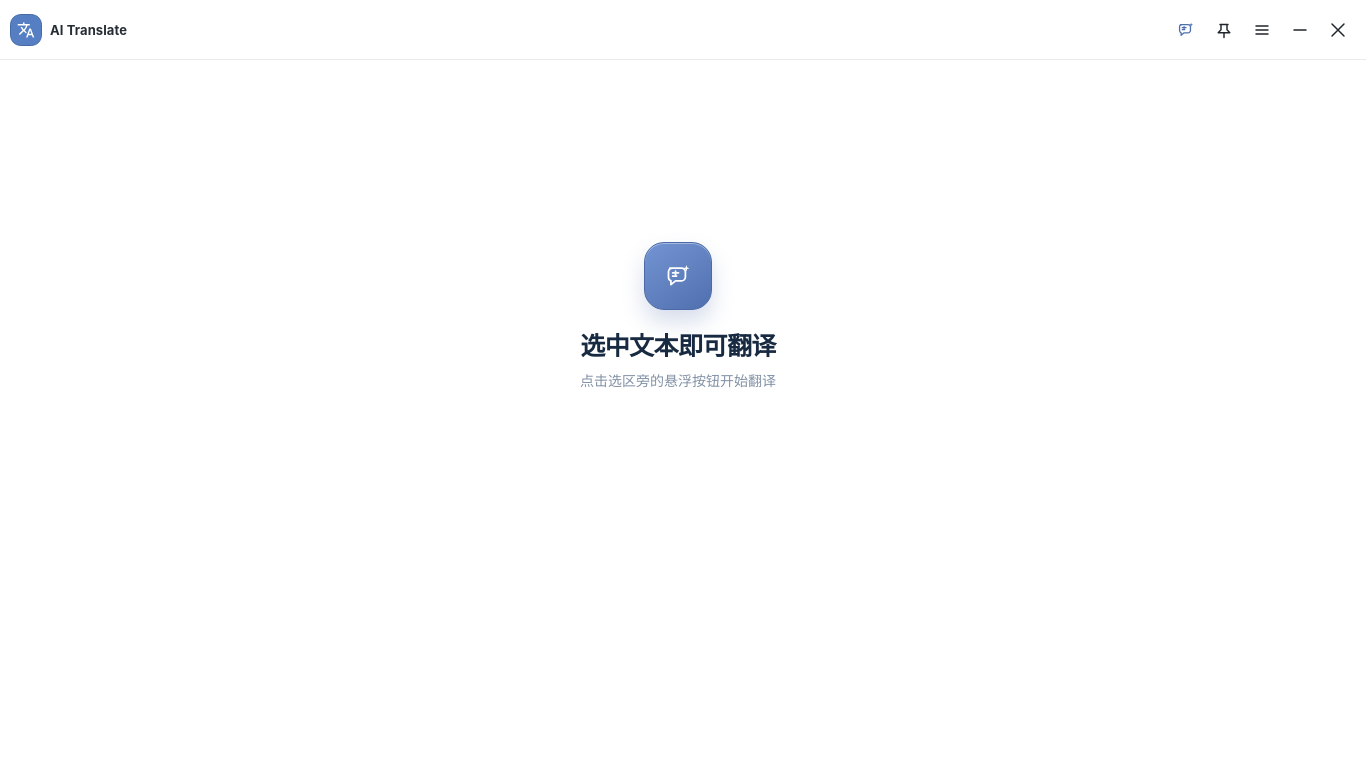
it: App › opens the floating translation state by default and keeps quick translation behind its entry
expect the heading "选中文本即可翻译" is shown: met, box [580,332,776,362]
expect the text "点击选区旁的悬浮按钮开始翻译" is shown: met, box [580,370,776,392]
Click the button named "快速翻译" at (1186, 30), box [1170,14,1202,46]
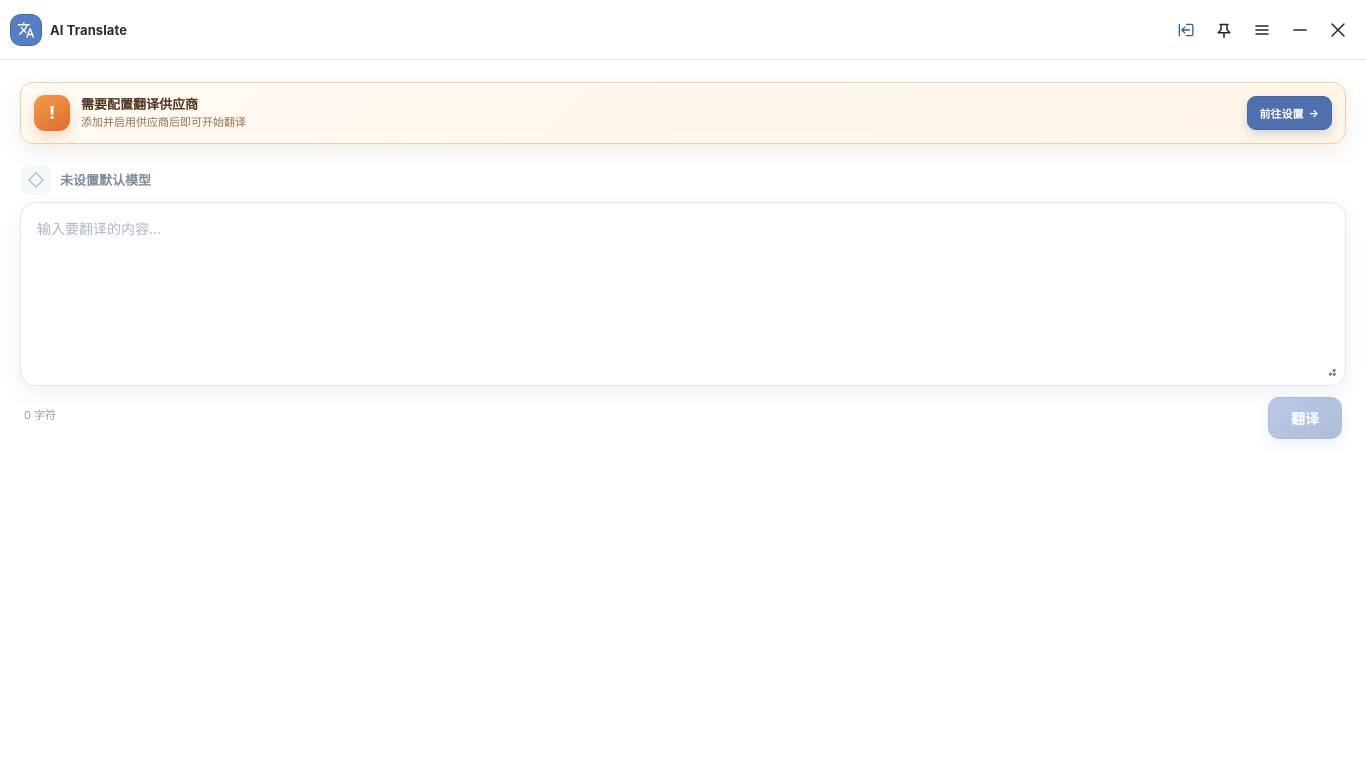
expect the text box named "输入文本" is shown: met, box [28,210,1338,378]
Click the button named "返回悬浮翻译" at (1186, 30), box [1170,14,1202,46]
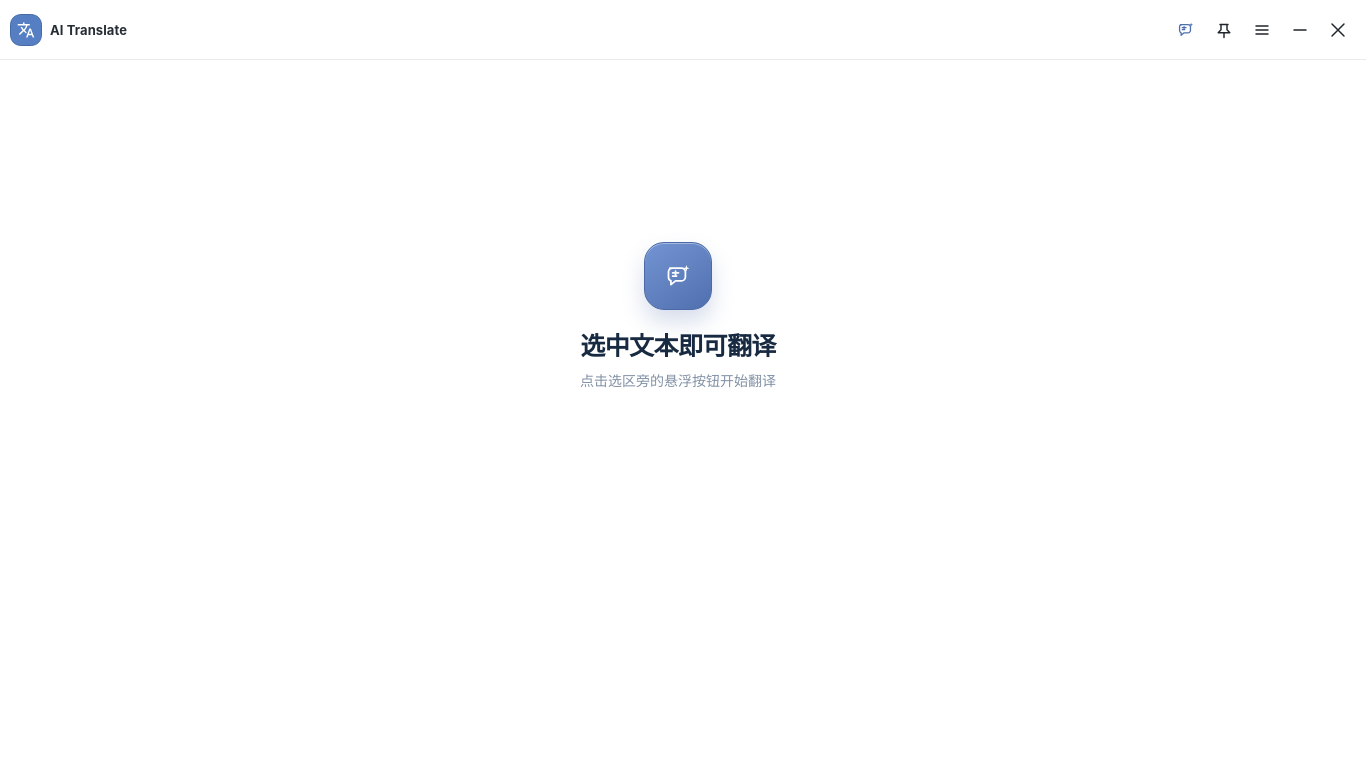
expect the heading "选中文本即可翻译" is shown: met, box [580,332,776,362]
expect the text box labelled "输入文本" is gone: met
